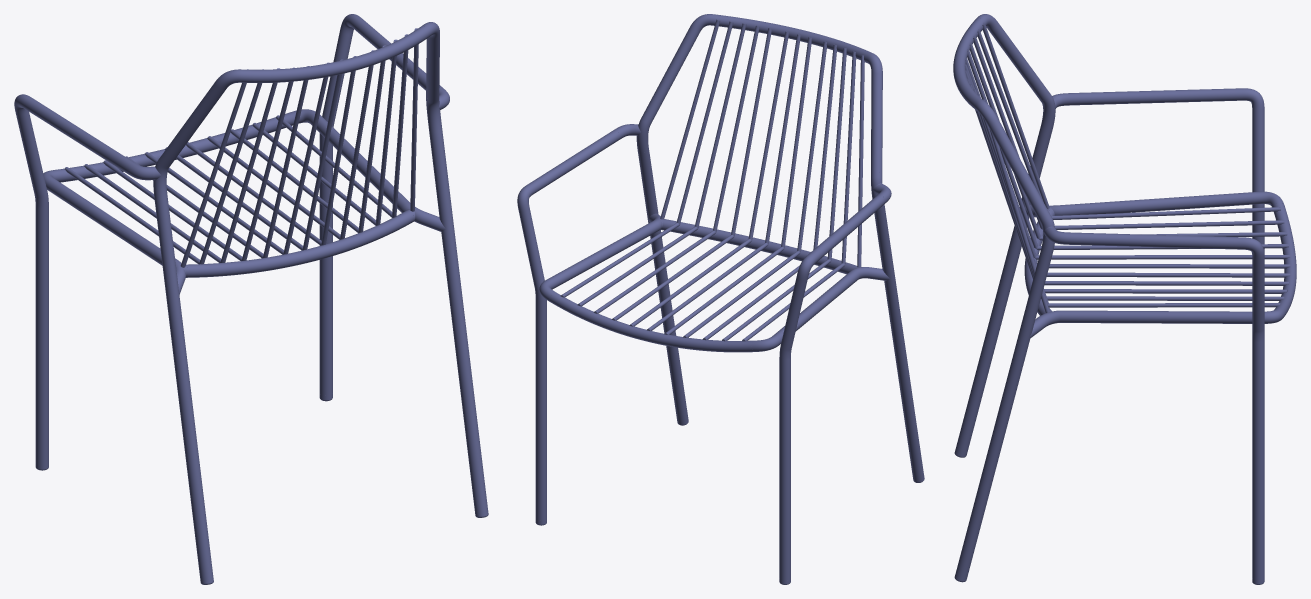
The model's file is tomeoarmchair.glb.
3 renders of one model, left to right at view 1: azimuth 30°, elevation 25°; view 2: azimuth 150°, elevation 25°; view 3: azimuth 270°, elevation 25°, orthographic. The views are drawn at different scales.
Parts seen in each view (by area): view 1: Extrusion.002, Extrusion.004, Brep.016, Brep.021, Extrusion.003, Brep.053, Brep.055, Brep.017, Brep.054, Brep.044, Brep.057, Brep.020 (+19 smaller); view 2: Brep.021, Brep.016, Extrusion.002, Extrusion.004, Brep.056, Brep.057, Brep.044, Brep.063, Brep.065, Brep.066, Brep.049, Brep.064 (+18 smaller); view 3: Extrusion.004, Brep.021, Extrusion.002, Extrusion.003, Extrusion.005, Brep.020, Brep.025, Brep.053, Brep.055, Brep.066, Brep.065, Brep.044 (+17 smaller).
Part boxes in pixels (x1,y1,x2,y2): Extrusion.002: (154, 197, 213, 578); Extrusion.004: (429, 130, 487, 511); Brep.016: (16, 111, 48, 464); Brep.021: (319, 32, 352, 395); Extrusion.003: (46, 178, 176, 265); Brep.053: (64, 69, 263, 264); Brep.055: (84, 68, 279, 262); Brep.017: (186, 250, 310, 277); Brep.054: (103, 67, 294, 260); Brep.044: (145, 62, 329, 254); Brep.057: (186, 56, 356, 245); Brep.020: (23, 97, 130, 171); Brep.021: (518, 208, 546, 520); Brep.016: (779, 276, 807, 580); Extrusion.002: (874, 207, 923, 479); Extrusion.004: (637, 150, 688, 421); Brep.056: (647, 34, 800, 330); Brep.057: (629, 31, 788, 326); Brep.044: (664, 37, 811, 334); Brep.063: (612, 28, 771, 320); Brep.065: (593, 25, 759, 313); Brep.066: (577, 23, 746, 306); Brep.049: (683, 41, 826, 337); Brep.064: (560, 21, 733, 297); Extrusion.004: (955, 252, 1052, 577); Brep.021: (1252, 257, 1264, 579); Extrusion.002: (955, 127, 1052, 452); Extrusion.003: (1060, 191, 1259, 215); Extrusion.005: (1060, 310, 1252, 323); Brep.020: (1075, 88, 1242, 105); Brep.025: (1075, 232, 1242, 249); Brep.053: (977, 29, 1280, 220); Brep.055: (973, 35, 1284, 229); Brep.066: (973, 89, 1284, 300); Brep.065: (969, 84, 1287, 293); Brep.044: (965, 58, 1290, 259).
Size of the model in its own units: 0.5908 by 0.8205 by 0.5552.
